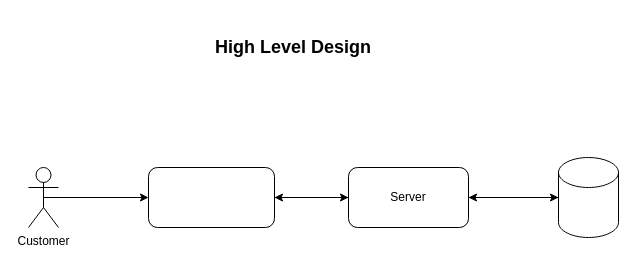
This 636x265 diagram has some shape labels left out. The centre of each missing label's shape, as x and y in pixels:
"Hotel Booking Website" goes at (211,197).
"MongoDB" goes at (588,197).
